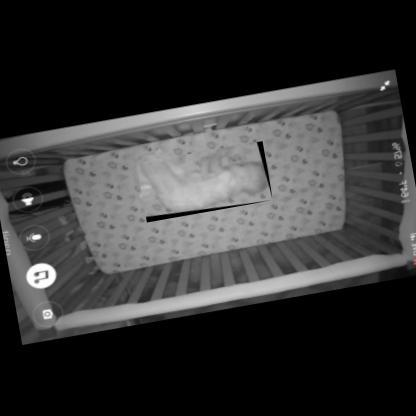baby: (133, 147, 268, 214)
